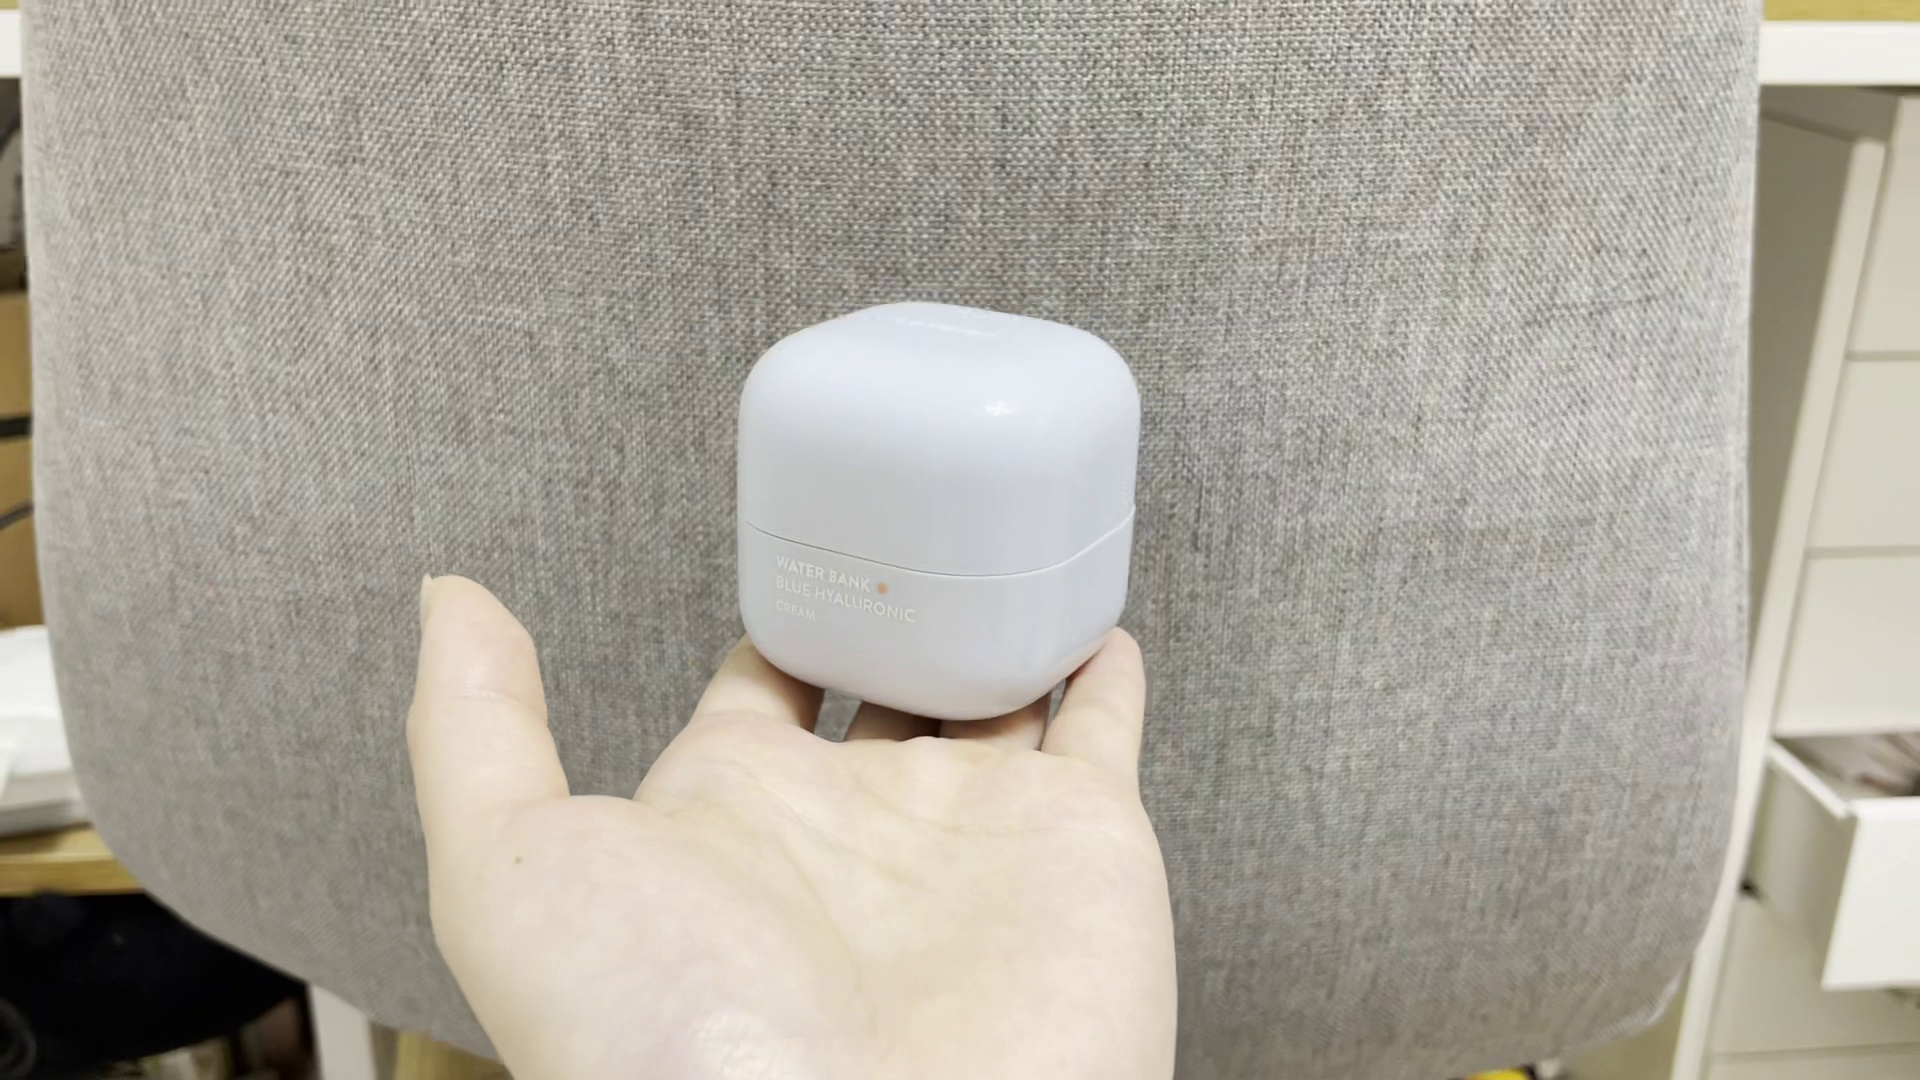cream: (735, 301, 1134, 723)
